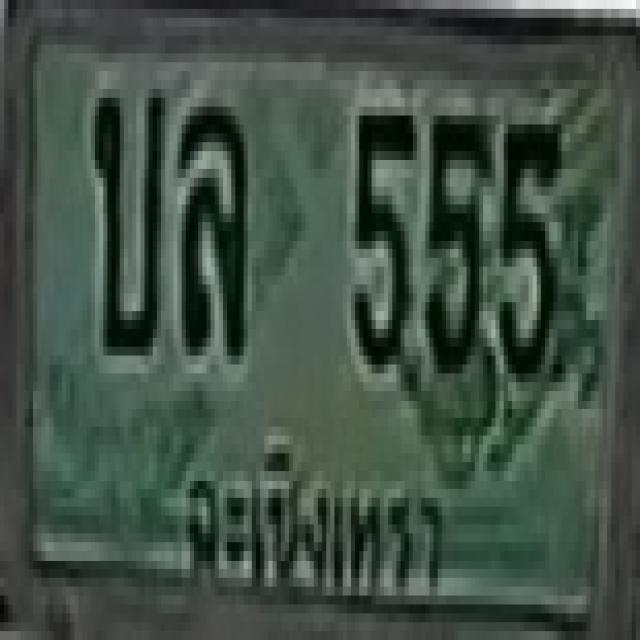5: (496, 116, 558, 382), (351, 106, 413, 364), (423, 106, 485, 364)
A26: (91, 80, 161, 347)
A36: (178, 98, 244, 346)
CCO: (182, 426, 450, 620)
